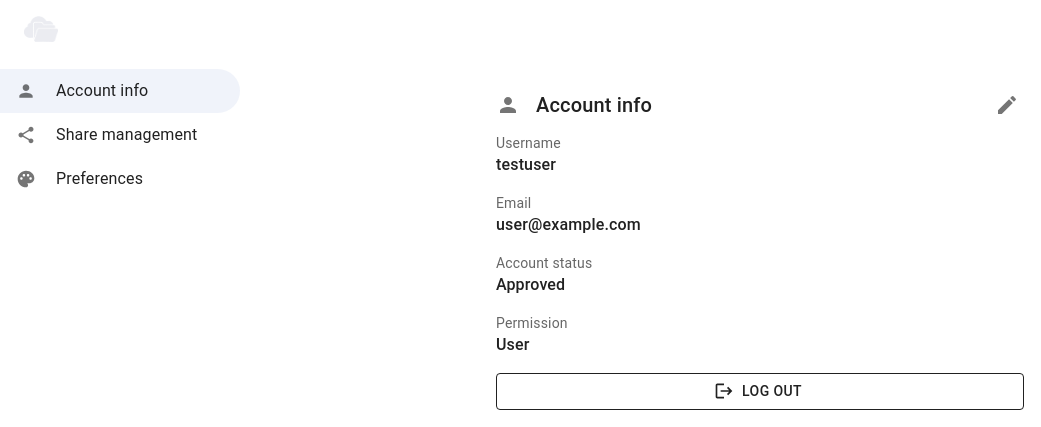
Test: MyPage › inbox: reject request shows success
The width and height of the screenshot is (1041, 427).
Click the button "Share management".
click(107, 135)  # box top-left (16, 125), bottom-right (198, 145)
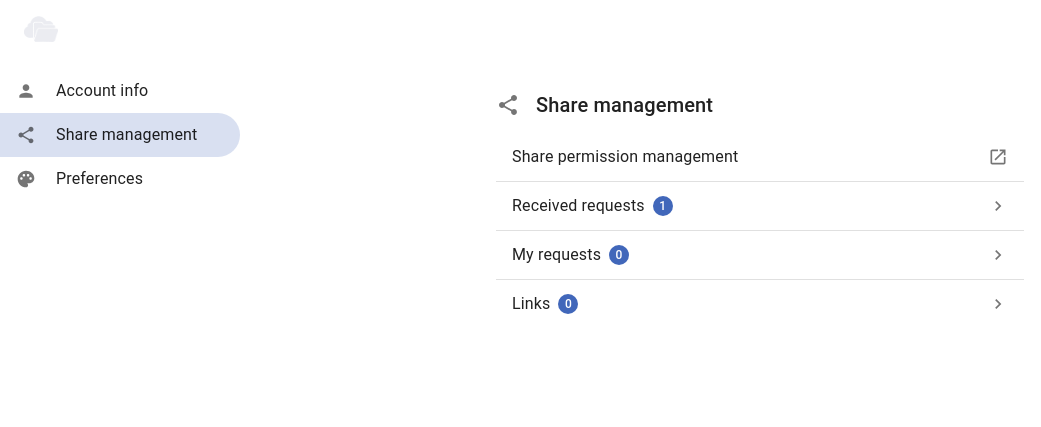
Now the button "Received requests 1" is shown
Click the button "Received requests 1".
click(578, 206)  # box top-left (512, 196), bottom-right (1008, 216)
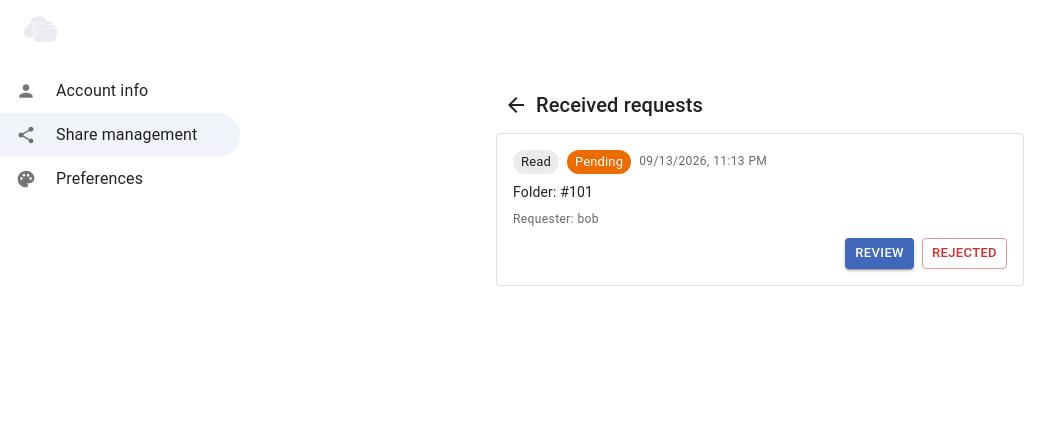
Now the button "Rejected" is shown
Click the button "Rejected".
click(964, 253)  # box top-left (922, 238), bottom-right (1007, 269)
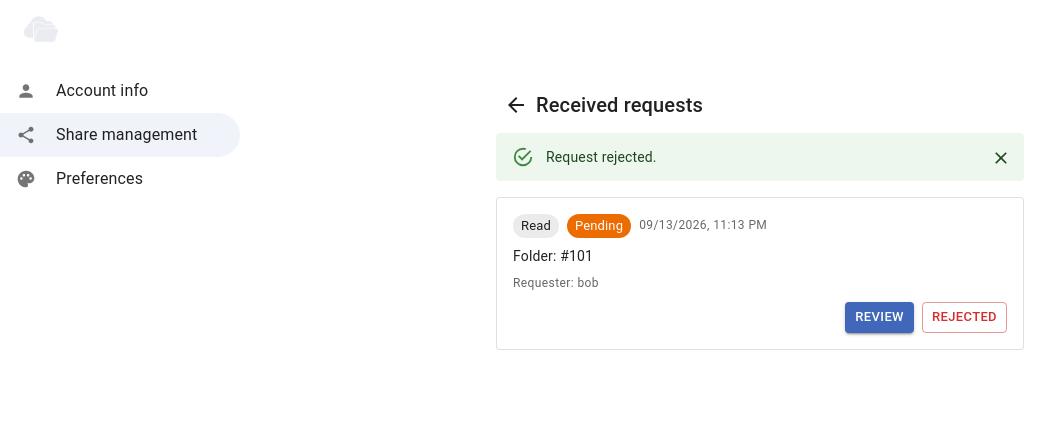
Now the message reads "Request rejected.", box top-left (546, 149), bottom-right (657, 165)
